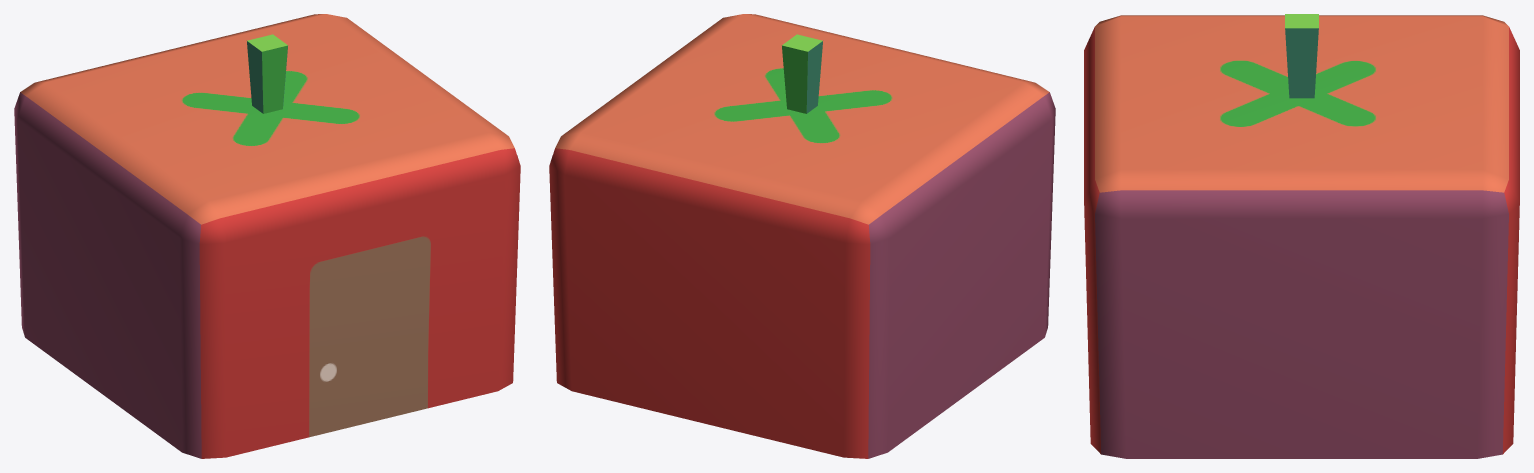
Rendered from houseTomato.fbx.
The picture shows the model from 3 angles, left to right: view 1: azimuth 30°, elevation 25°; view 2: azimuth 150°, elevation 25°; view 3: azimuth 270°, elevation 25°; orthographic projection. The views are drawn at different scales.
Parts seen in each view (by area): view 1: body, stalk; view 2: body, stalk; view 3: body, stalk.
Boxes of the visible parts, x1,y1,x2,y2 form: body: (14, 14, 520, 458); stalk: (247, 34, 287, 113); body: (549, 14, 1055, 458); stalk: (782, 34, 822, 113); body: (1084, 15, 1519, 458); stalk: (1285, 14, 1318, 98).
Size of the model in its own units: 7.6 by 6.7 by 7.6.
